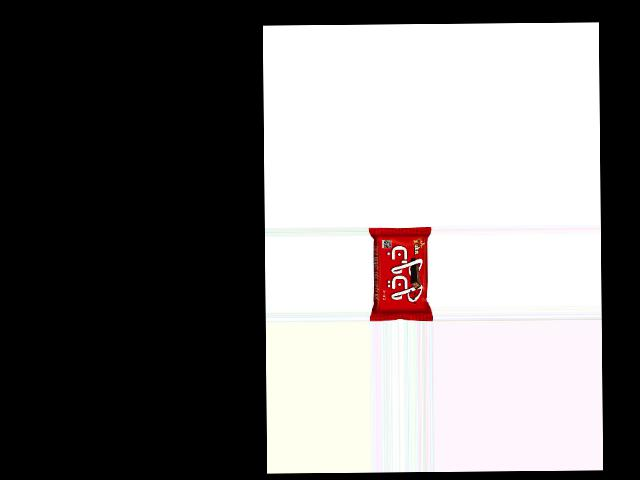chocolate: (367, 227, 432, 320)
